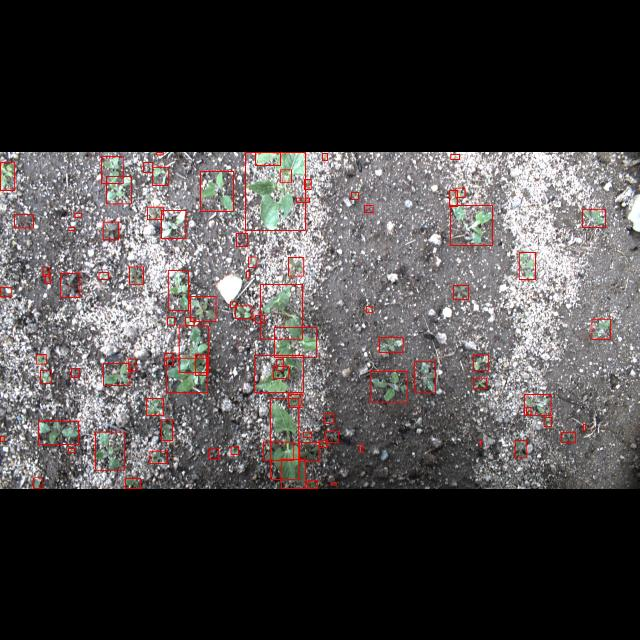crop: (246, 152, 306, 230), (260, 284, 302, 338), (271, 398, 299, 479), (254, 356, 304, 392), (274, 327, 316, 357), (282, 459, 306, 489), (256, 152, 280, 164)
weed: (450, 205, 492, 245), (166, 358, 208, 392), (179, 326, 209, 372), (200, 170, 234, 210), (370, 371, 408, 402), (95, 432, 125, 470), (38, 420, 78, 444), (168, 270, 188, 310), (106, 175, 132, 203), (160, 210, 186, 238), (414, 361, 436, 391), (190, 296, 216, 320), (104, 363, 130, 385), (264, 442, 294, 461), (524, 394, 552, 414), (101, 156, 122, 182), (518, 251, 536, 279), (60, 273, 80, 297), (582, 209, 606, 227), (1, 161, 16, 189), (379, 336, 403, 352), (300, 442, 320, 461), (592, 319, 610, 339), (288, 256, 304, 276), (103, 221, 119, 239), (146, 398, 164, 414), (152, 166, 168, 184), (14, 213, 34, 227), (129, 266, 143, 284), (236, 304, 252, 318), (454, 284, 468, 300), (474, 354, 488, 370), (150, 451, 167, 464), (196, 354, 207, 374), (515, 440, 527, 458), (162, 420, 172, 440), (148, 206, 162, 218), (288, 394, 302, 406), (274, 366, 288, 378), (236, 232, 248, 245), (280, 169, 292, 181), (40, 371, 51, 384), (126, 478, 140, 488), (562, 432, 576, 442), (326, 431, 338, 442), (450, 189, 458, 205), (0, 286, 12, 296), (474, 378, 486, 388), (36, 354, 46, 364), (209, 448, 219, 458), (324, 413, 334, 423), (128, 358, 136, 370), (164, 353, 172, 365), (276, 358, 284, 369), (296, 196, 310, 202), (71, 368, 79, 378), (34, 478, 42, 488), (144, 162, 152, 172), (248, 256, 256, 266), (308, 480, 318, 488), (364, 204, 374, 212), (456, 187, 464, 197), (544, 417, 552, 427), (318, 439, 328, 446), (231, 446, 239, 454), (186, 317, 194, 325), (256, 315, 264, 323), (99, 272, 109, 278), (304, 179, 310, 189), (42, 267, 49, 275), (168, 316, 175, 324), (322, 152, 328, 160), (450, 154, 460, 158), (230, 301, 236, 307), (352, 192, 358, 198), (366, 306, 372, 312), (526, 408, 532, 414), (46, 274, 50, 282), (303, 432, 311, 436), (68, 448, 74, 452), (75, 212, 81, 216), (247, 270, 250, 278), (582, 424, 586, 430), (69, 227, 75, 230), (0, 436, 4, 440), (360, 444, 362, 452), (157, 152, 163, 154), (332, 483, 336, 485), (480, 440, 480, 446)
